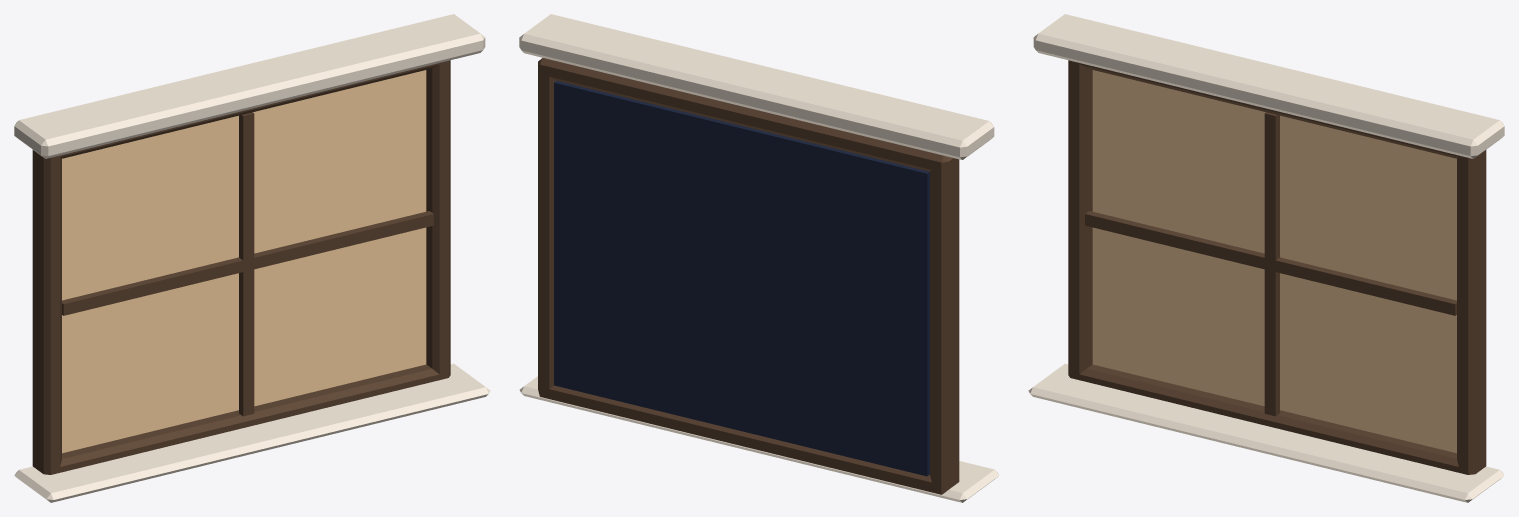
Rendered from CatCafe_Alley_ShopWindow.glb.
The picture shows the model from 3 angles, left to right: view 1: azimuth 30°, elevation 25°; view 2: azimuth 150°, elevation 25°; view 3: azimuth 330°, elevation 25°; orthographic projection.
Parts seen in each view (by area): view 1: CatCafe_Alley_ShopWindow_Pane, CatCafe_Alley_ShopWindow_Frame; view 2: CatCafe_Alley_ShopWindow_Frame; view 3: CatCafe_Alley_ShopWindow_Pane, CatCafe_Alley_ShopWindow_Frame.
Boxes of the visible parts, x1,y1,x2,y2 form: CatCafe_Alley_ShopWindow_Pane: (62,70,426,453); CatCafe_Alley_ShopWindow_Frame: (14,14,490,502); CatCafe_Alley_ShopWindow_Frame: (519,14,999,502); CatCafe_Alley_ShopWindow_Pane: (1092,70,1456,453); CatCafe_Alley_ShopWindow_Frame: (1028,14,1504,502).
Size of the model in its own units: 4.8 by 3.71 by 0.7.
1 material, 1 textured.
